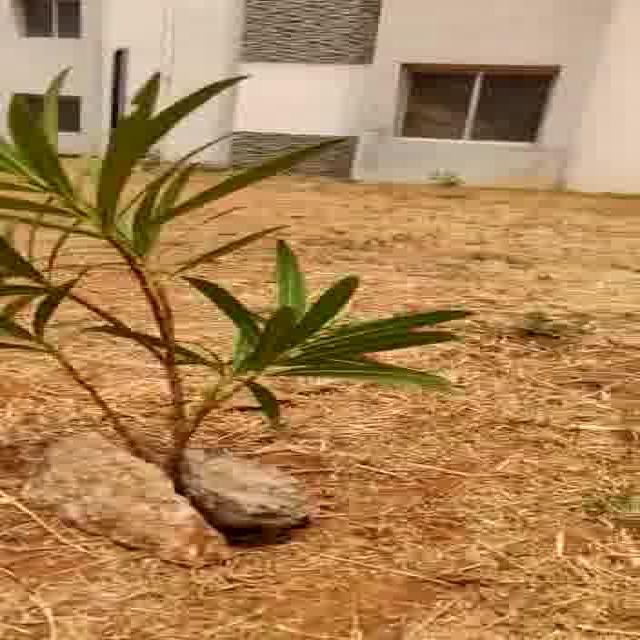OLEANDER: (7, 48, 470, 417)
